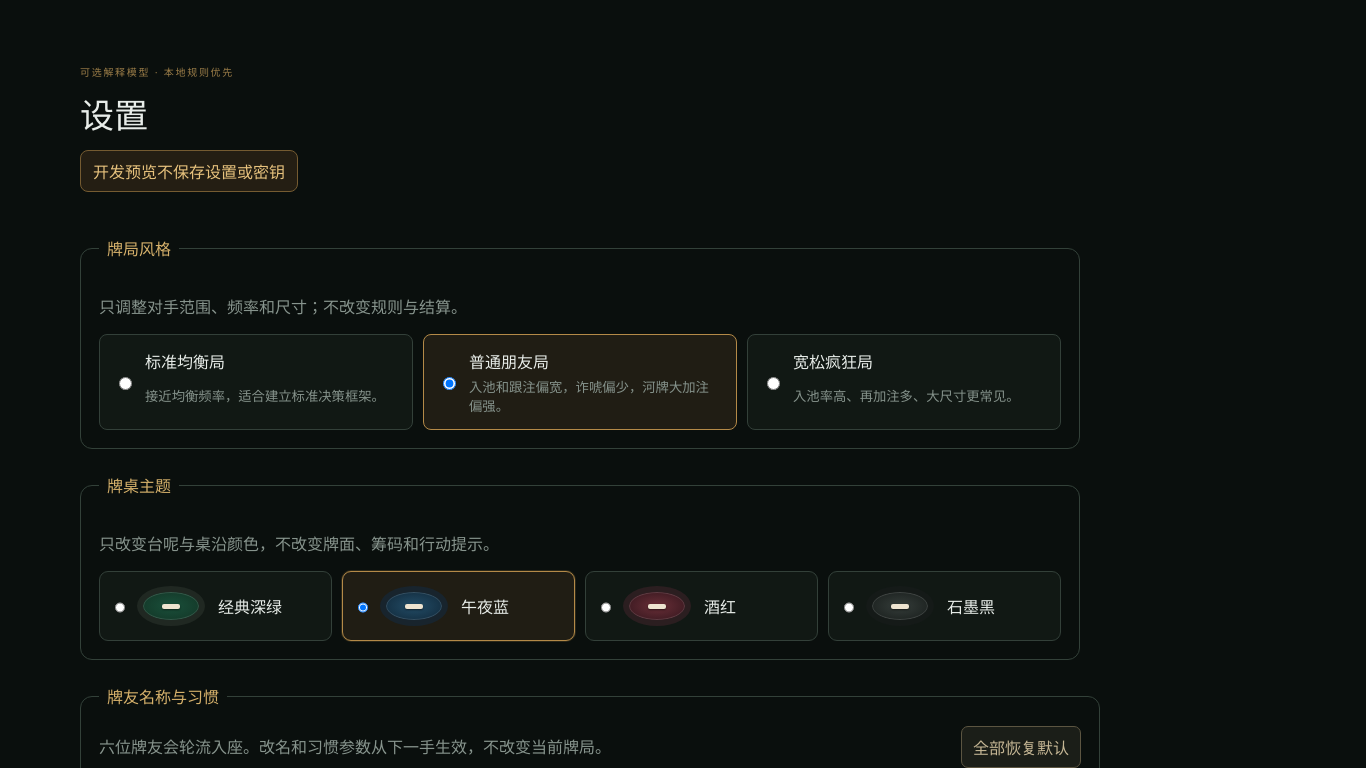
Test case: SettingsPage › saves a table profile for the next hand without changing the current hand
Expected: the radio button labelled "普通朋友局" is checked, [443, 352, 456, 415]
Step 1. Click the radio button labelled "宽松疯狂局" → (774, 384), box [767, 352, 780, 415]
(page scrolled)
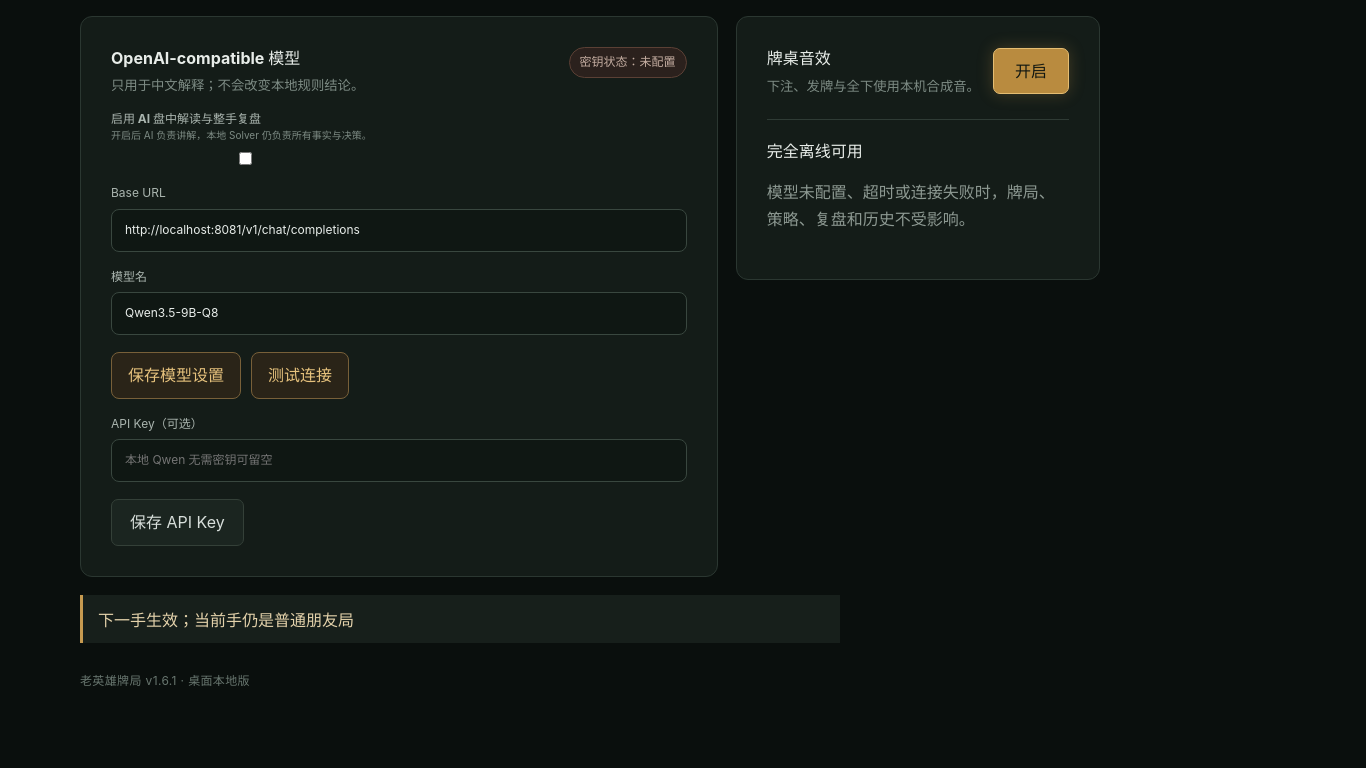
Now the text "下一手生效；当前手仍是普通朋友局" is shown, box [80, 594, 840, 642]
